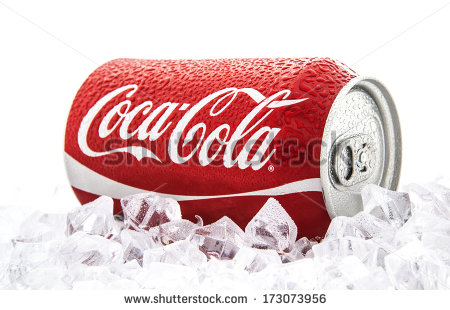coke: (71, 57, 388, 233)
